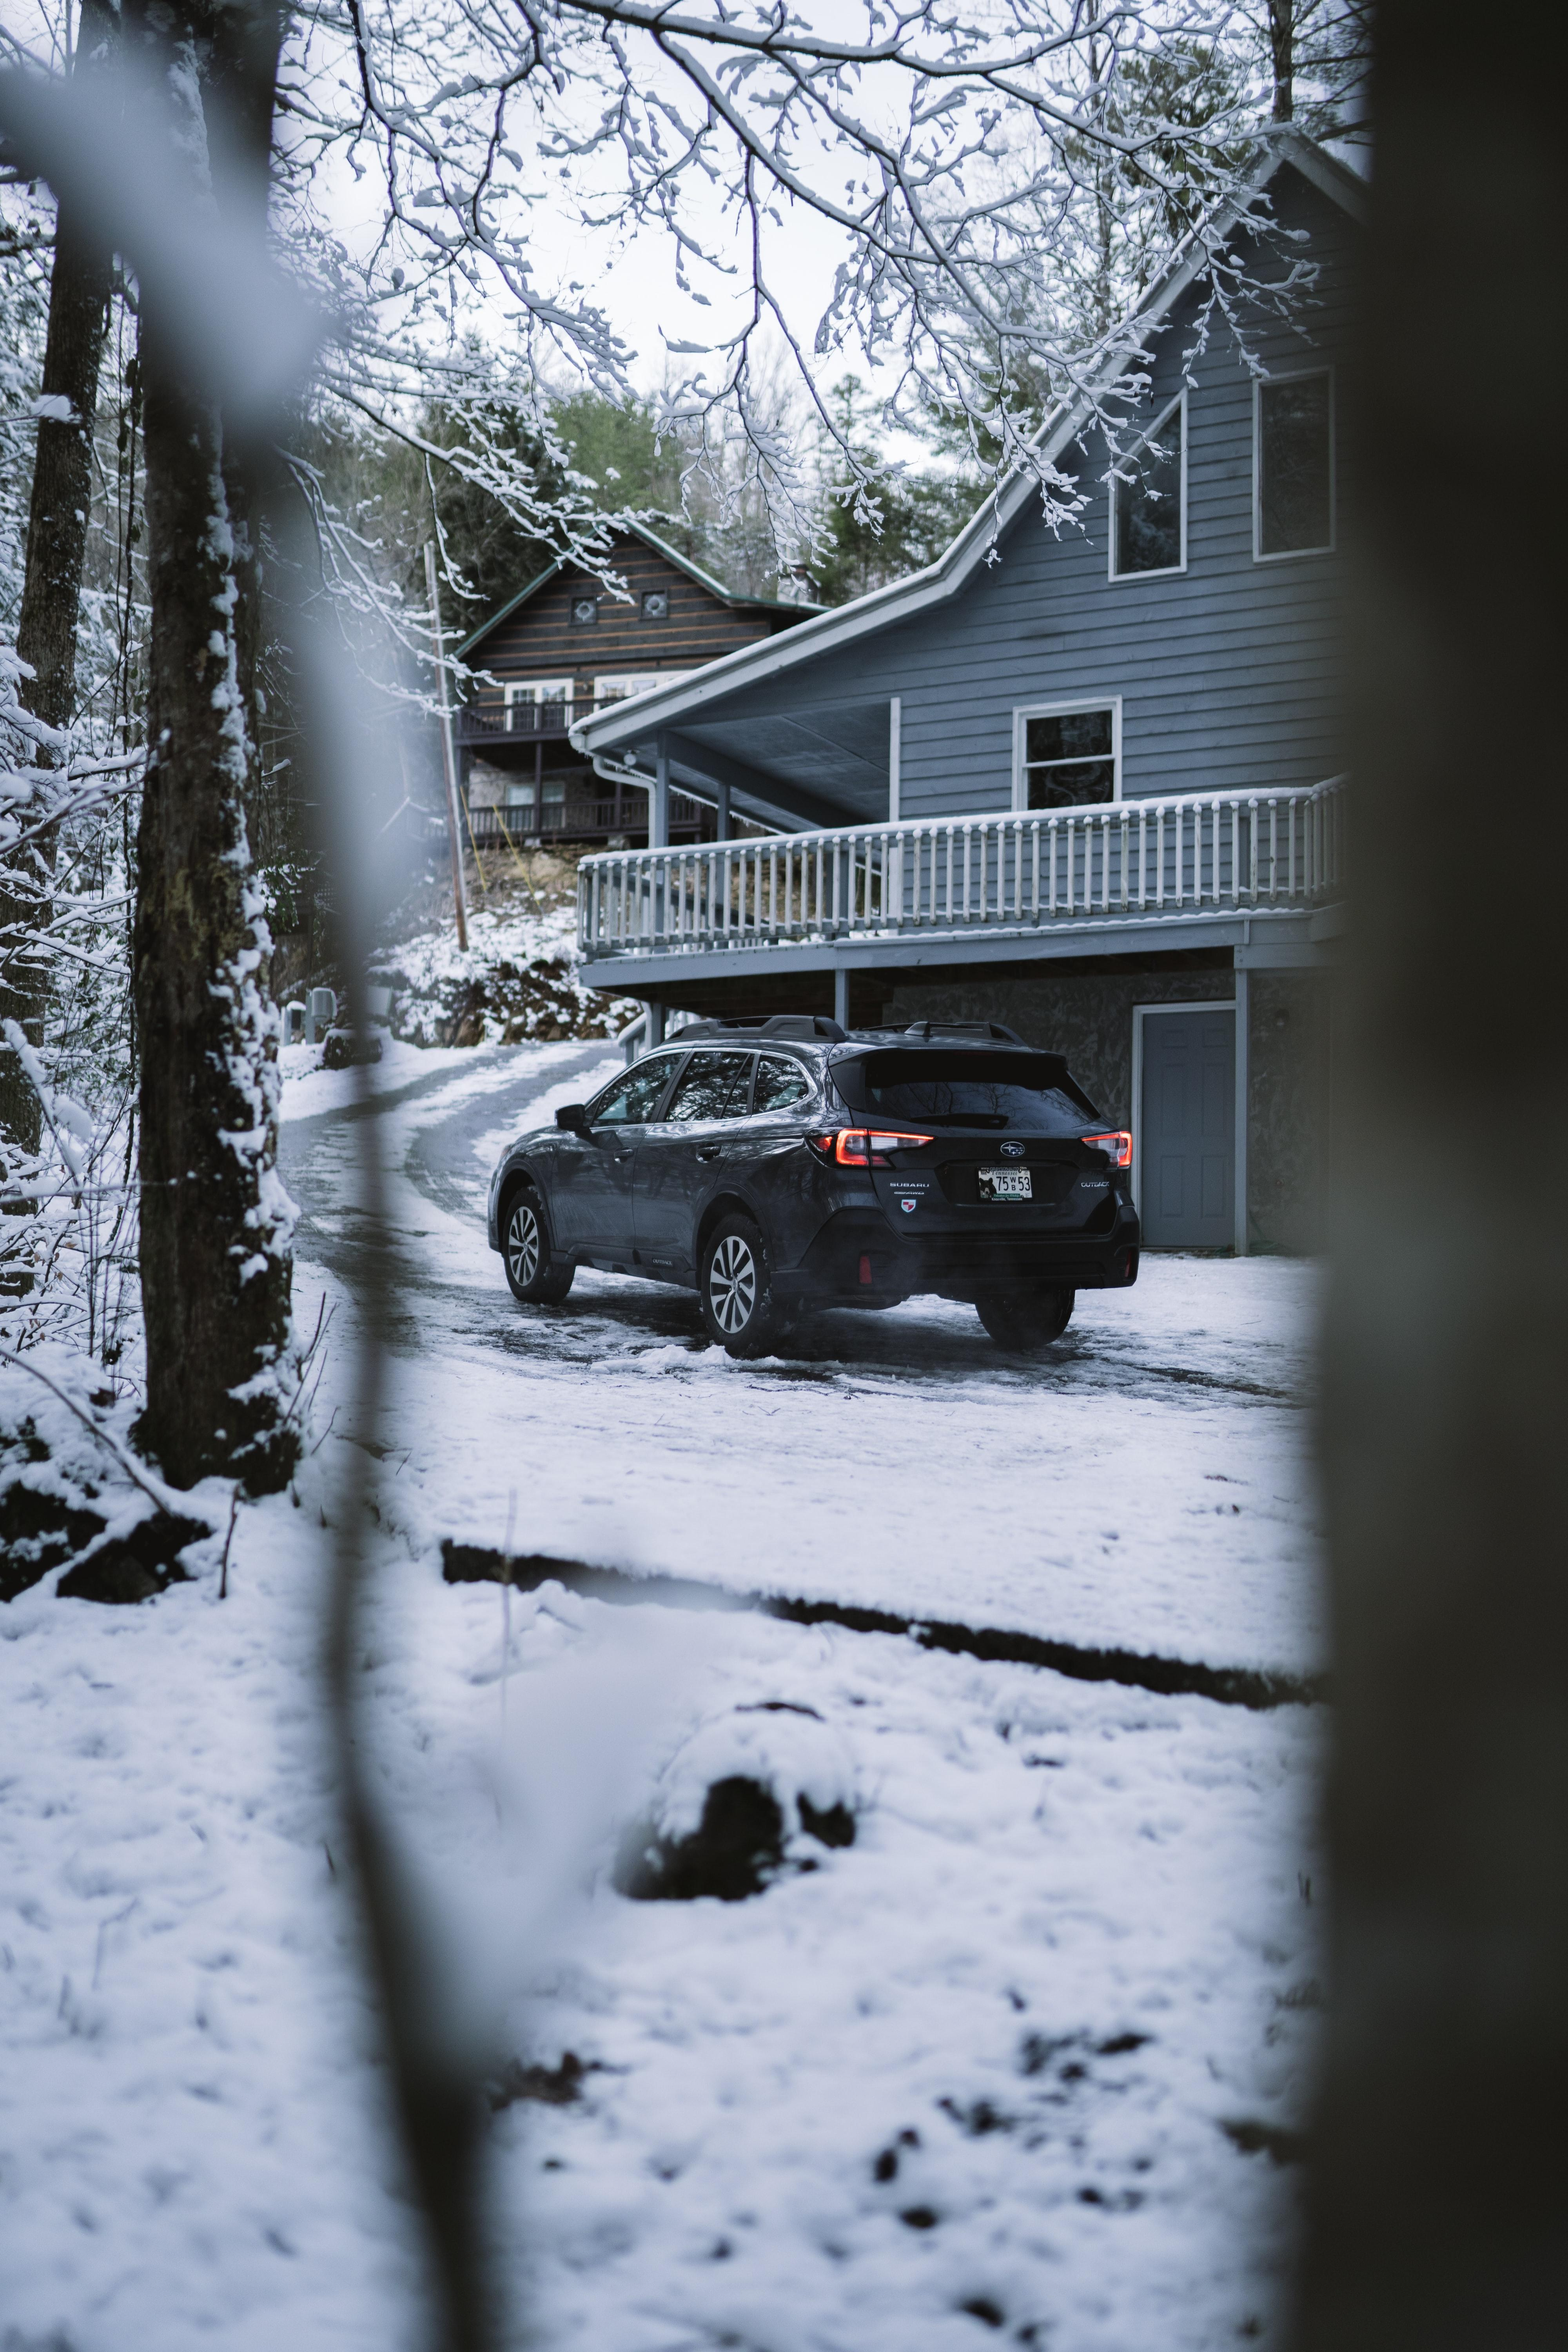subaru: (982, 1123, 1045, 1177)
